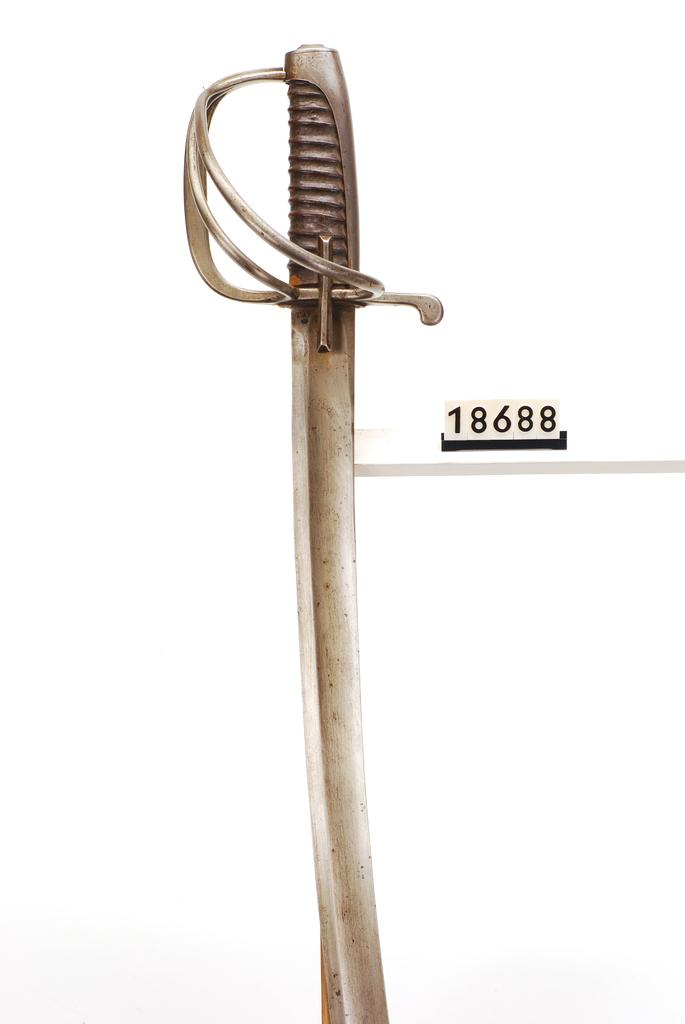Sword: (178, 42, 443, 1020)
